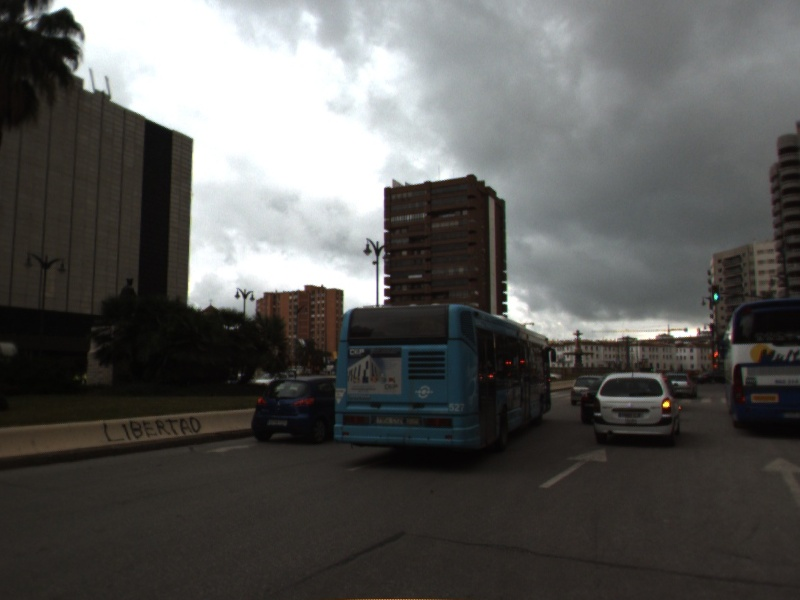STRAIGHT: (536, 446, 609, 491), (757, 454, 800, 506)
